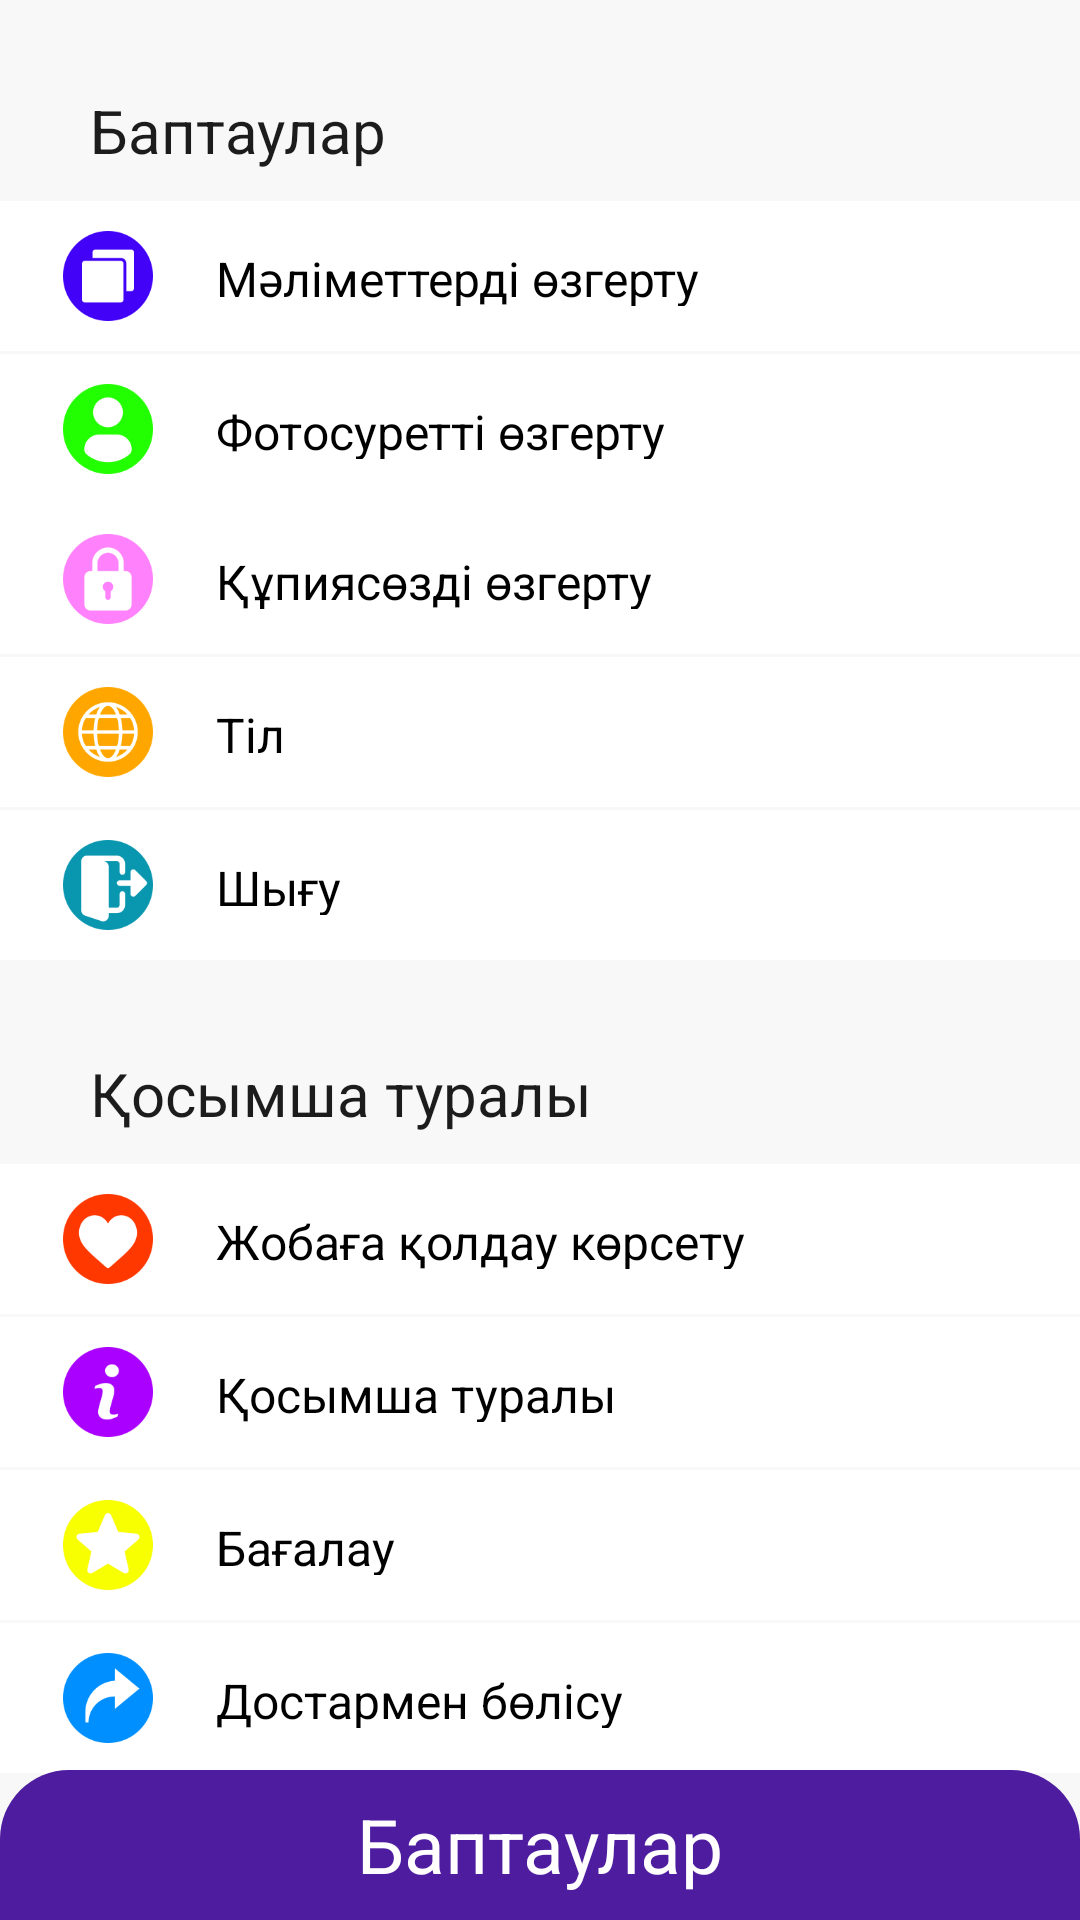

Screen size 1080 × 1920. Icon name, then its center in pixels as (x,y):
earth: (108,732)
heart: (108,1239)
information: (108,1392)
next: (108,1698)
password: (108,579)
profile user: (108,429)
star: (108,1545)
